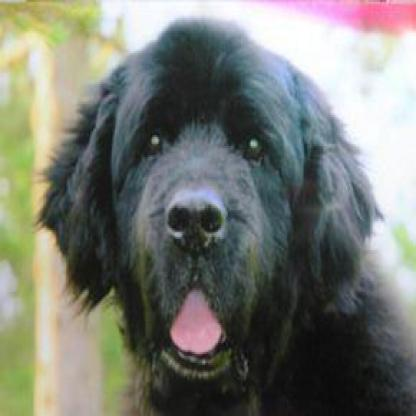Newfoundland: (33, 13, 413, 412)
